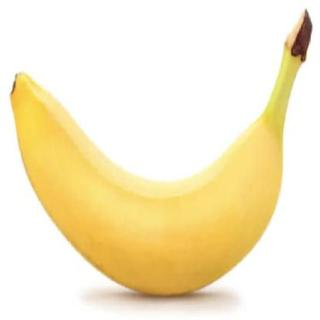banana: (9, 69, 285, 301)
